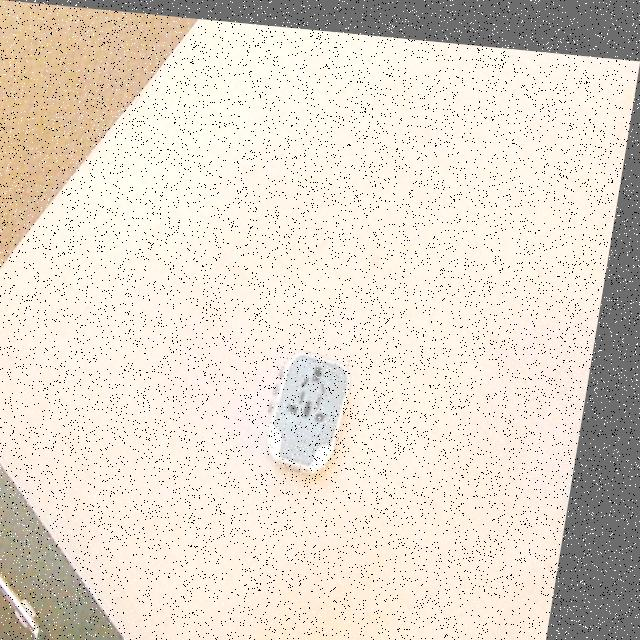adapter: (272, 341, 366, 468)
